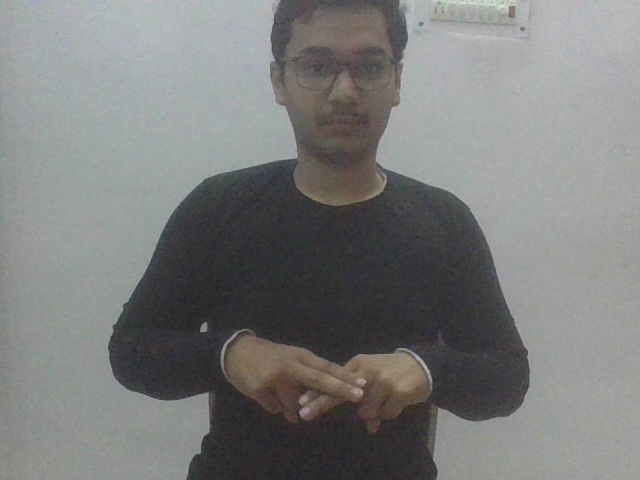F: (212, 325, 434, 434)
